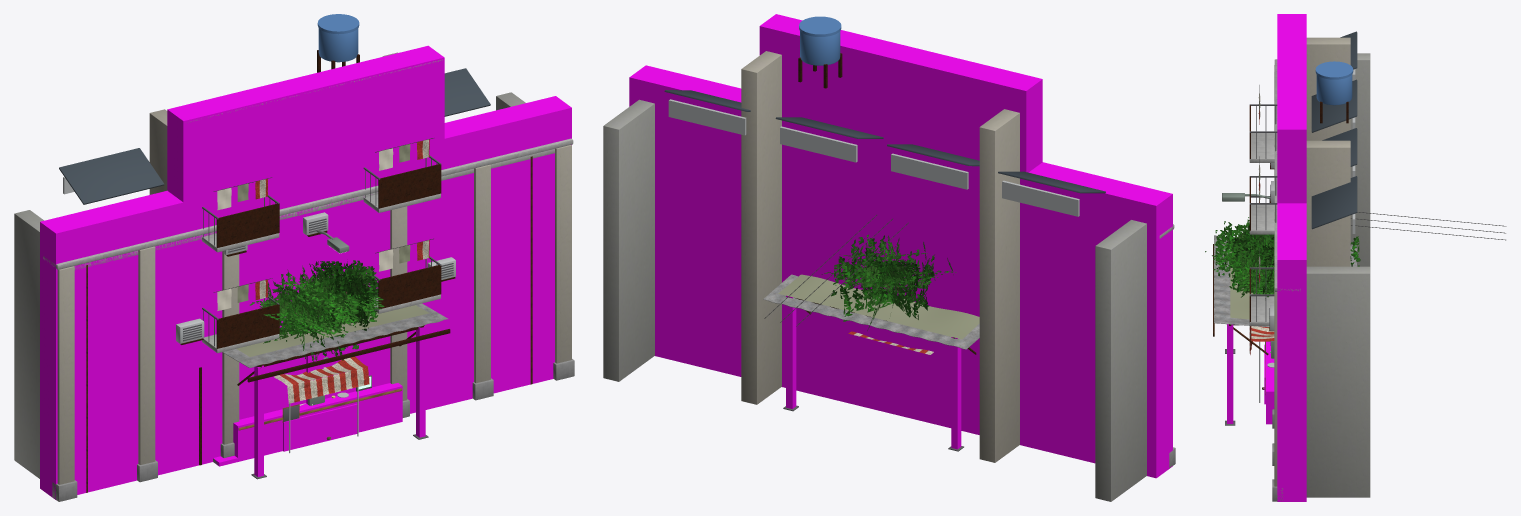
File: praca_hero.glb
3 renders of one model, left to right at view 1: azimuth 30°, elevation 25°; view 2: azimuth 150°, elevation 25°; view 3: azimuth 270°, elevation 25°, orthographic. The views are drawn at different scales.
Visible parts, largest first — view 1: COL_fachada, COL_fachada_res, fachada_central_plaster_warm, fachada_central_plaster_gray, fachada_central_glass_dark, arvore_1_leaves, arvore_0_leaves, fachada_residencial_0_rust_dark, fachada_residencial_1_rust_dark, fachada_central_concrete, COL_balcao, posto_distribuicao_corrugated (+13 smaller); view 2: COL_fachada, fachada_central_plaster_gray, fachada_residencial_0_plaster_warm, COL_fachada_res, fachada_central_metal_light, posto_distribuicao_fabric_olive, arvore_1_leaves, fachada_central_glass_dark, arvore_0_leaves, posto_distribuicao_corrugated, fachada_residencial_0_plastic_blue, COL_pilar_2.6_1.8 (+1 smaller); view 3: fachada_central_plaster_gray, COL_fachada, fachada_residencial_0_plaster_warm, COL_fachada_res, fachada_central_glass_dark, arvore_1_leaves, arvore_0_leaves, fachada_residencial_0_plastic_blue, posto_distribuicao_corrugated, fachada_residencial_0_concrete, fachada_central_concrete, fachada_central_plaster_warm (+9 smaller).
Boxes of the visible parts, <box> form: COL_fachada: <box>40,96,571,499</box>; COL_fachada_res: <box>167,45,444,468</box>; fachada_central_plaster_warm: <box>57,145,571,484</box>; fachada_central_plaster_gray: <box>14,92,525,478</box>; fachada_central_glass_dark: <box>59,68,490,204</box>; arvore_1_leaves: <box>260,260,383,361</box>; arvore_0_leaves: <box>249,261,384,358</box>; fachada_residencial_0_rust_dark: <box>199,50,441,465</box>; fachada_residencial_1_rust_dark: <box>199,50,441,465</box>; fachada_central_concrete: <box>43,138,573,270</box>; COL_balcao: <box>233,383,402,461</box>; posto_distribuicao_corrugated: <box>222,303,447,367</box>; COL_fachada: <box>629,65,1172,478</box>; fachada_central_plaster_gray: <box>603,99,1146,501</box>; fachada_residencial_0_plaster_warm: <box>741,51,1019,462</box>; COL_fachada_res: <box>759,14,1042,398</box>; fachada_central_metal_light: <box>668,99,1079,216</box>; posto_distribuicao_fabric_olive: <box>778,274,979,339</box>; arvore_1_leaves: <box>835,234,956,330</box>; fachada_central_glass_dark: <box>664,90,1105,193</box>; arvore_0_leaves: <box>821,235,949,317</box>; posto_distribuicao_corrugated: <box>763,274,979,349</box>; fachada_residencial_0_plastic_blue: <box>799,16,841,65</box>; COL_pilar_2.6_1.8: <box>786,295,796,408</box>; fachada_central_plaster_gray: <box>1306,53,1370,497</box>; COL_fachada: <box>1277,203,1306,501</box>; fachada_residencial_0_plaster_warm: <box>1306,37,1350,266</box>; COL_fachada_res: <box>1277,14,1306,203</box>; fachada_central_glass_dark: <box>1311,31,1357,229</box>; arvore_1_leaves: <box>1213,225,1360,297</box>; arvore_0_leaves: <box>1205,217,1274,298</box>; fachada_residencial_0_plastic_blue: <box>1315,61,1353,105</box>; posto_distribuicao_corrugated: <box>1214,235,1356,327</box>; fachada_residencial_0_concrete: <box>1249,133,1274,325</box>; fachada_central_concrete: <box>1274,59,1300,291</box>; fachada_central_plaster_warm: <box>1274,65,1277,486</box>.
Bounding box in the file's own units: 16.6 × 11.8 × 9.27.
30 materials, 13 textured.
